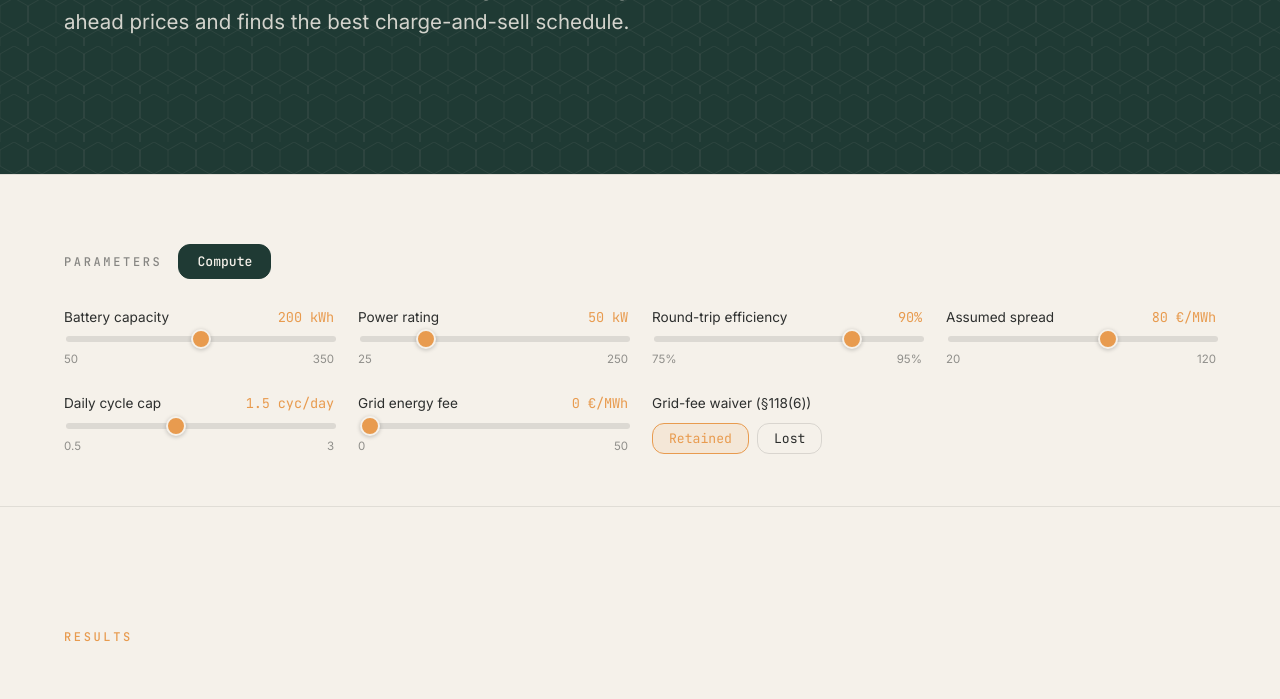
it: PlaygroundPage › slider changes update value displays without crashing
(page scrolled)
Set the slider labelled "Battery capacity" to "300" at (286, 339), box [66,336,336,342]
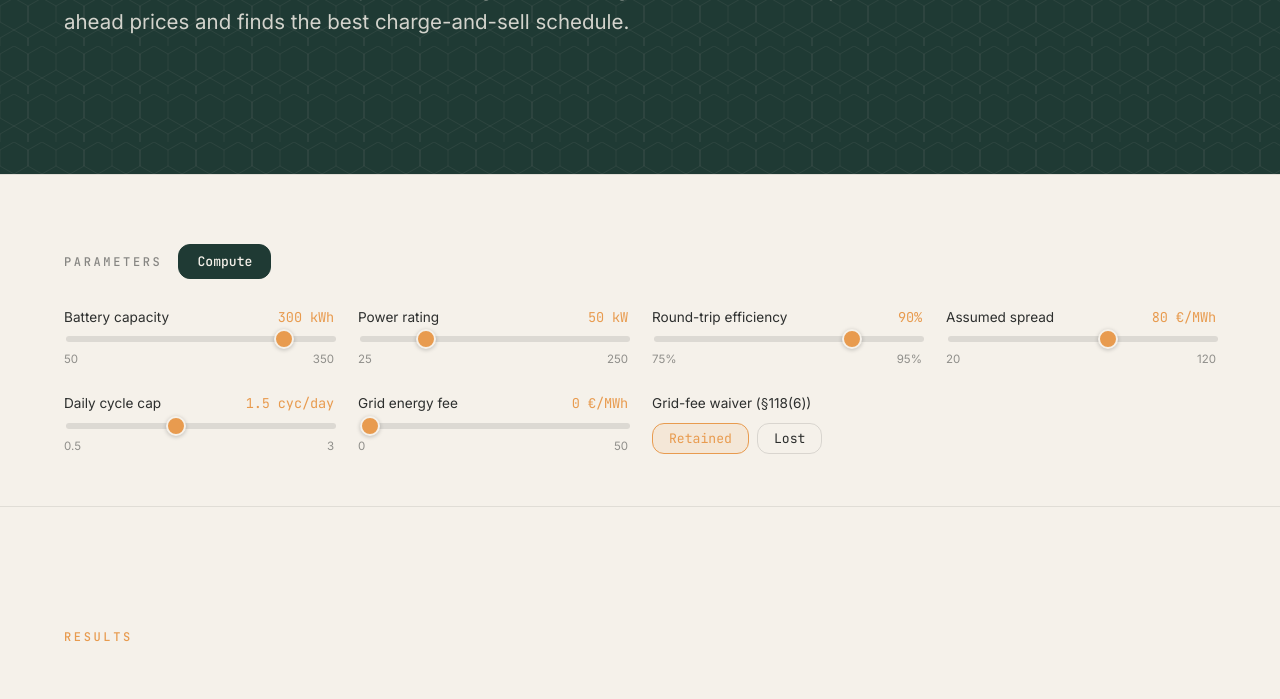
Expected: the text "300 kWh" is shown, [278,307,334,328]
